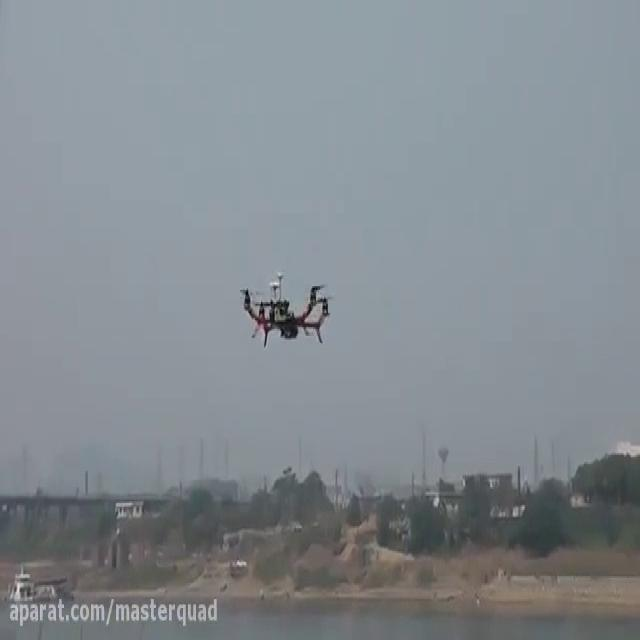drone: (234, 263, 339, 350)
